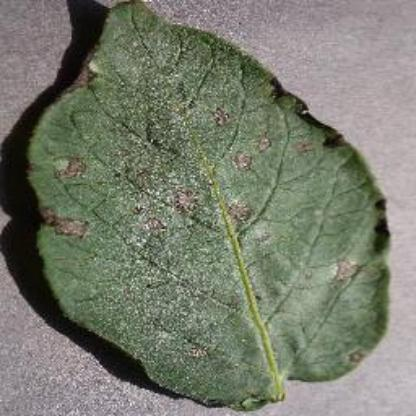Early-Blight: (22, 2, 398, 410)
